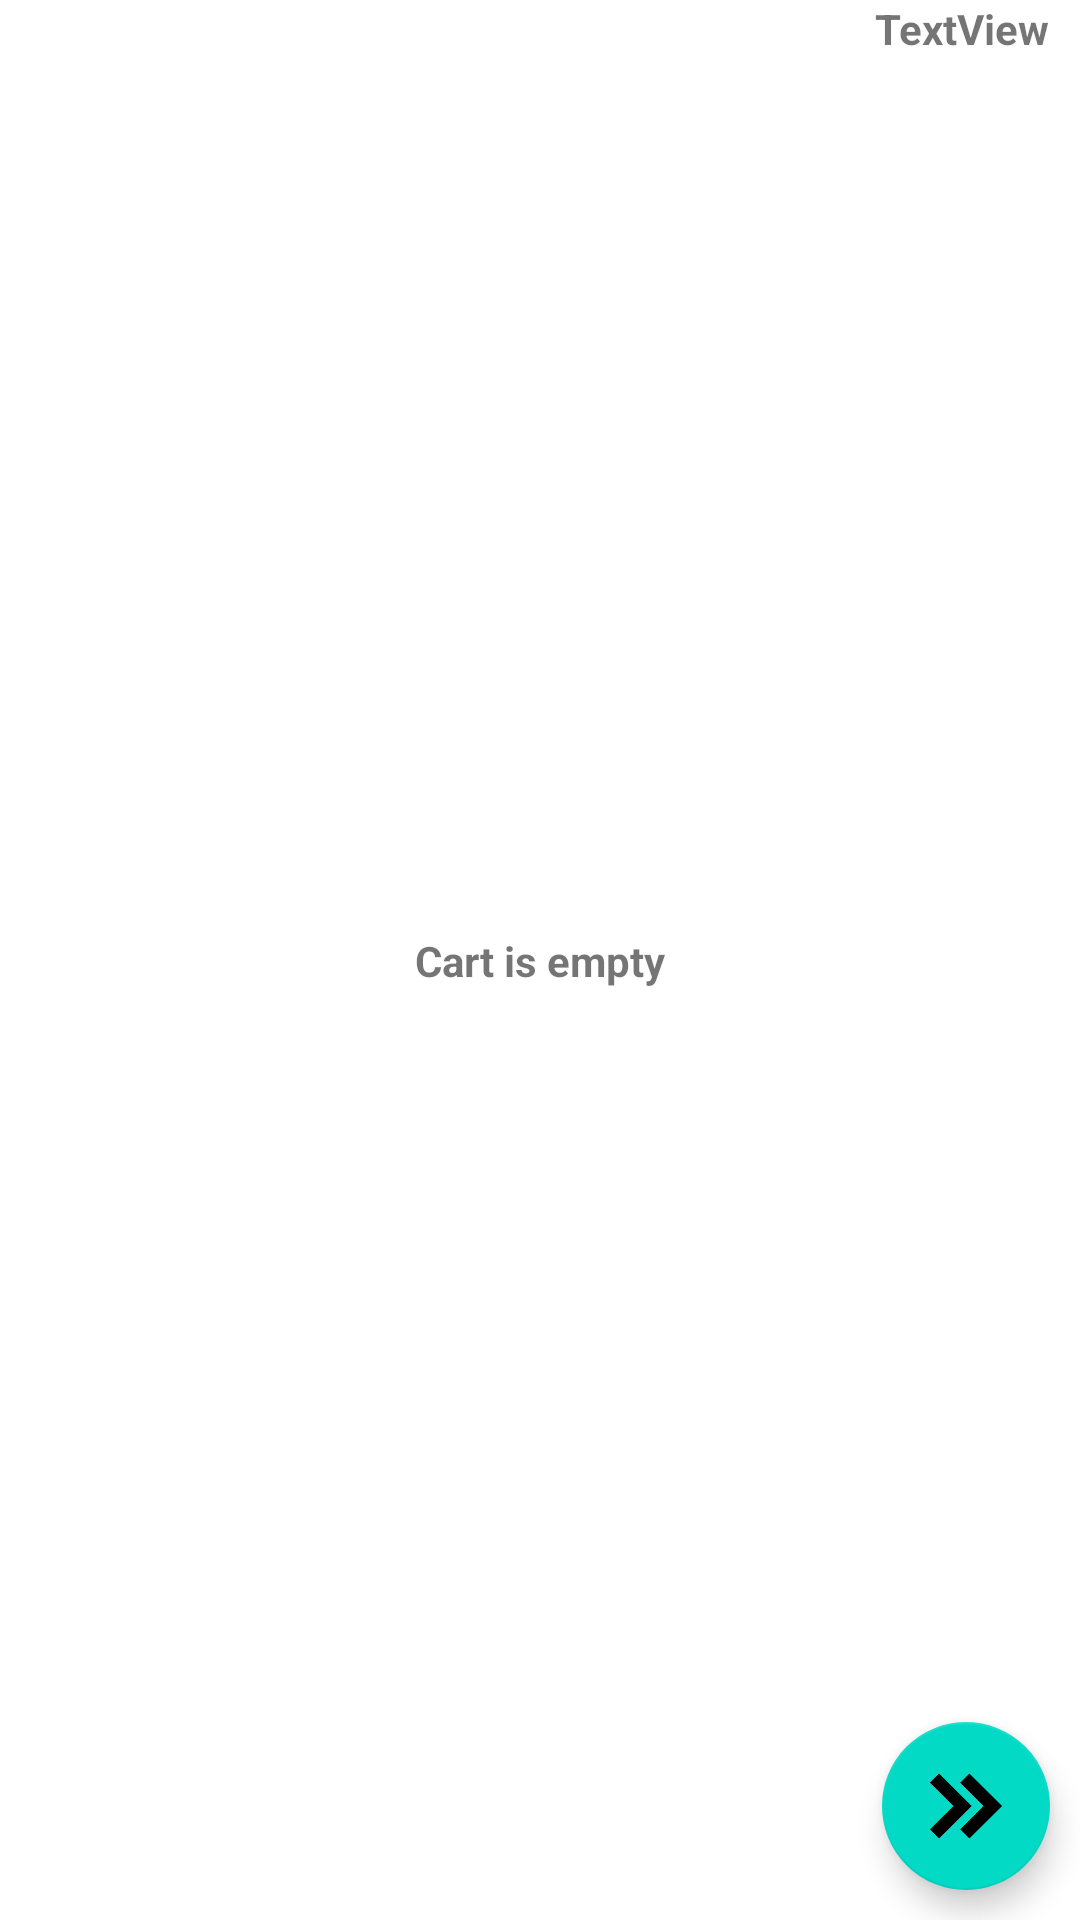

Locate icon controls on the screen. Image size 1080 x 1920, boxes as (x1, y1, x2, y2).
arrow: (882, 1722, 1050, 1890)
